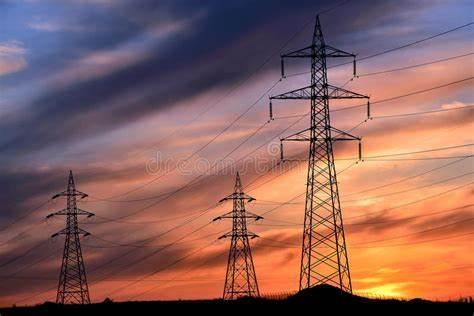power_tower: (271, 14, 390, 297), (48, 168, 102, 310), (214, 173, 268, 303)
